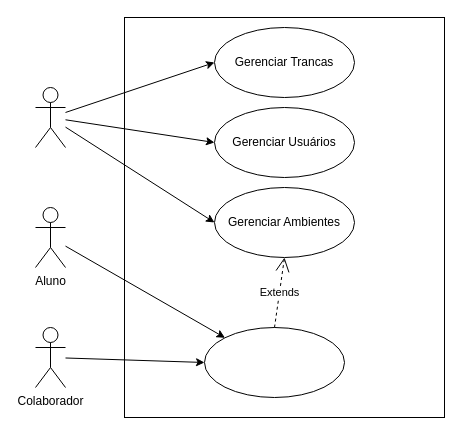
The diagram is 462 pixels wide and 435 high, and some of its shapes have lost their labels. Here are the shapes that lost their labels. From the top down, the centre of each, then its label:
At pixel 50 117: "Professor".
At pixel 274 362: "Acessar Ambiente".
